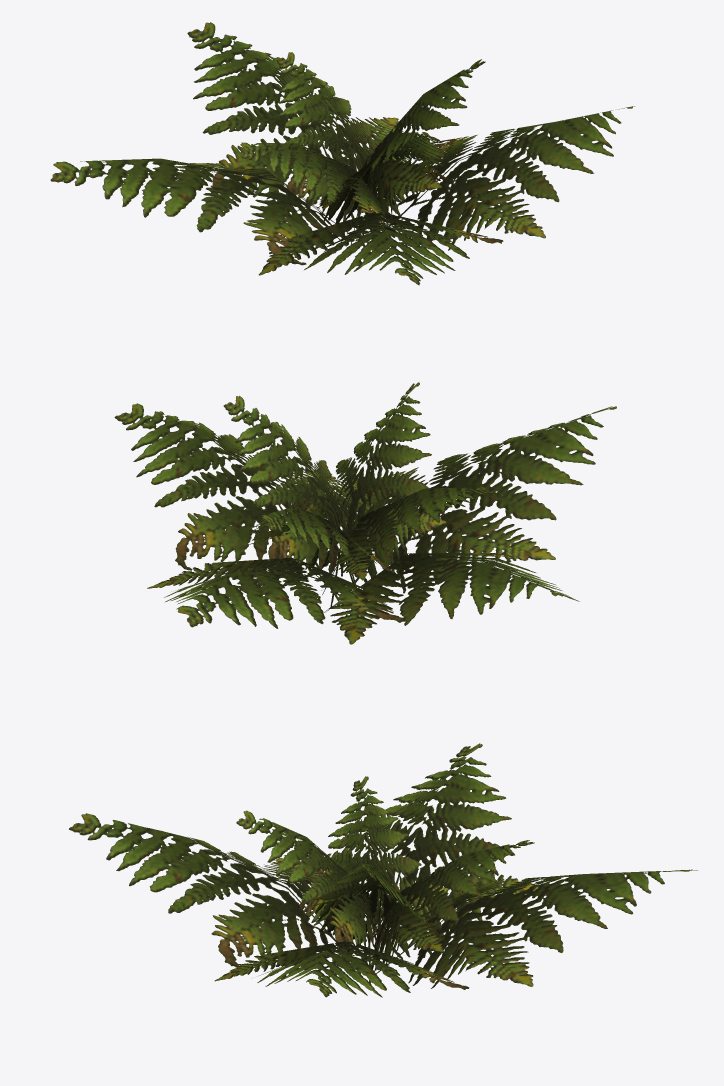
Rendered from yasl_cao2.fbx.
3 renders of one model, top to bottom at view 1: azimuth 30°, elevation 25°; view 2: azimuth 150°, elevation 25°; view 3: azimuth 270°, elevation 25°, orthographic. The views are drawn at different scales.
Visible parts, largest first — view 1: yasl_cao2; view 2: yasl_cao2; view 3: yasl_cao2.
Part boxes in pixels (x1=…): yasl_cao2: x1=50, y1=22, x2=634, y2=285; yasl_cao2: x1=114, y1=382, x2=616, y2=644; yasl_cao2: x1=69, y1=743, x2=697, y2=997.
Size of the model in its own units: 1090 by 311 by 1085.
